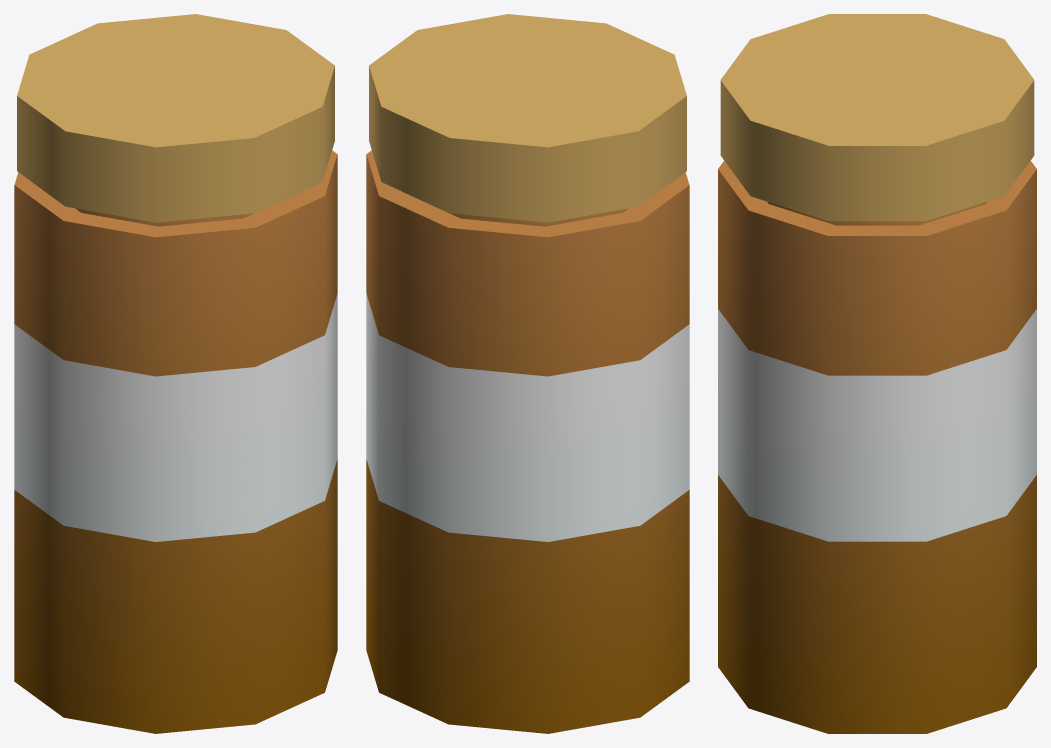
File: flask_coffee.fbx
3 views of the same model, side by side, from view 1: azimuth 30°, elevation 25°; view 2: azimuth 150°, elevation 25°; view 3: azimuth 270°, elevation 25° (orthographic).
Visible parts, largest first — view 1: flask_coffee; view 2: flask_coffee; view 3: flask_coffee.
Boxes of the visible parts, x1,y1,x2,y2 form: flask_coffee: (14, 14, 337, 733); flask_coffee: (366, 14, 689, 733); flask_coffee: (718, 14, 1036, 733).
Size of the model in its own units: 133 by 272 by 134.
